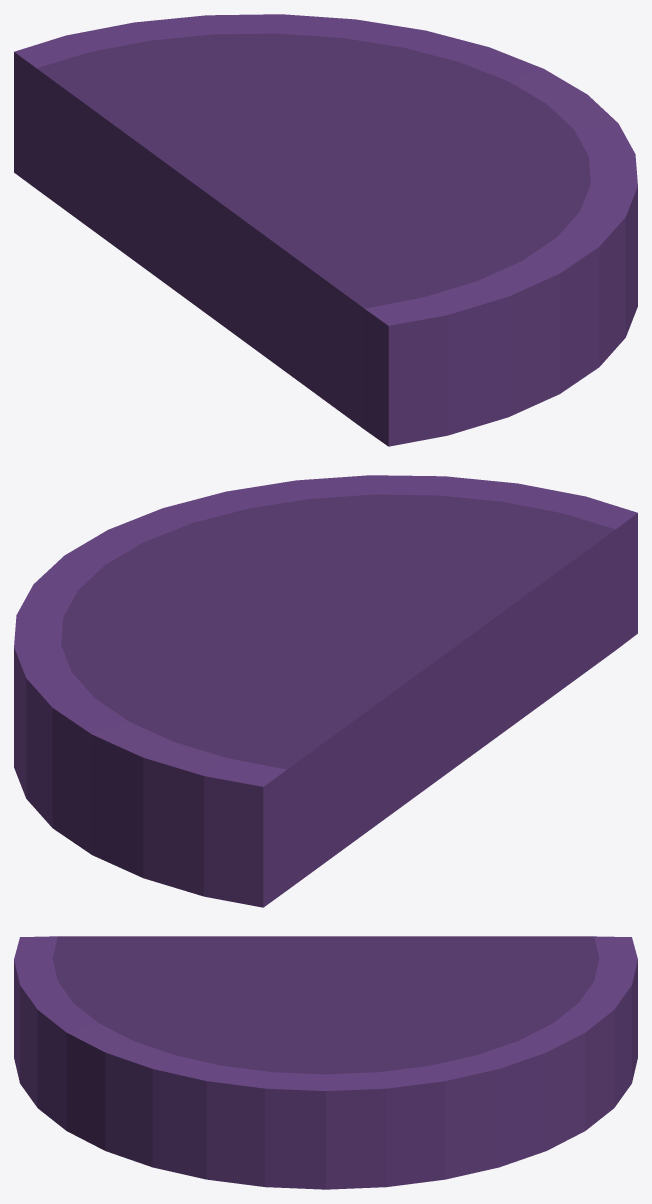
3 views of the same model, one above another, from view 1: azimuth 30°, elevation 25°; view 2: azimuth 150°, elevation 25°; view 3: azimuth 270°, elevation 25° (orthographic). The views are drawn at different scales.
Visible parts, largest first — view 1: Cylinder; view 2: Cylinder; view 3: Cylinder.
Part boxes in pixels (left/top/right/bottom): Cylinder: left=14, top=14, right=637, bottom=446; Cylinder: left=14, top=475, right=637, bottom=907; Cylinder: left=14, top=936, right=637, bottom=1189.
Bounding box in the file's own units: 95.37 × 28.56 × 163.
